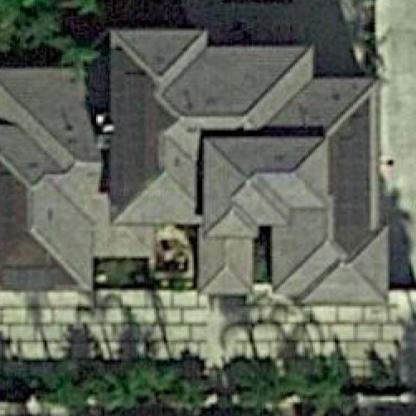solar_panel: (102, 46, 156, 206), (329, 98, 379, 255)
